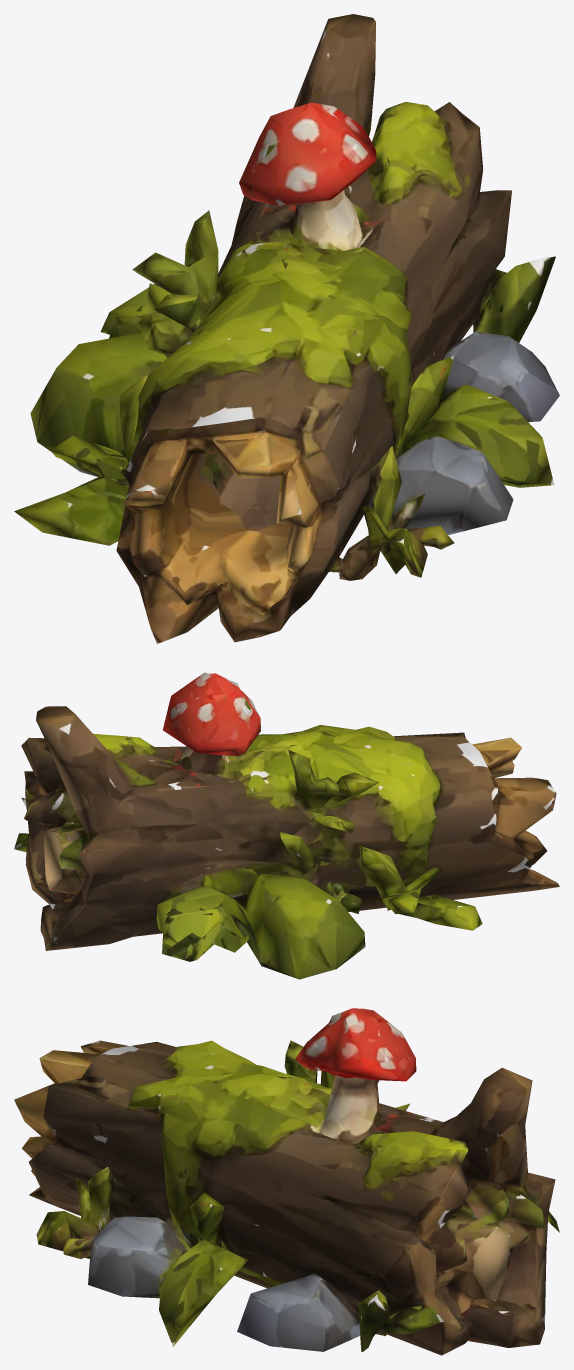
The model's file is dec_logs.glb.
The picture shows the model from 3 angles, top to bottom: view 1: azimuth 30°, elevation 25°; view 2: azimuth 150°, elevation 25°; view 3: azimuth 270°, elevation 25°; orthographic projection. The views are drawn at different scales.
Visible parts, largest first — view 1: BakeLow; view 2: BakeLow; view 3: BakeLow.
Part boxes in pixels (left/top/right/bottom): BakeLow: left=14, top=14, right=559, bottom=643; BakeLow: left=14, top=672, right=559, bottom=979; BakeLow: left=14, top=1008, right=559, bottom=1355.
Size of the model in its own units: 0.8487 by 0.4713 by 0.8114.
1 material, 1 textured.
